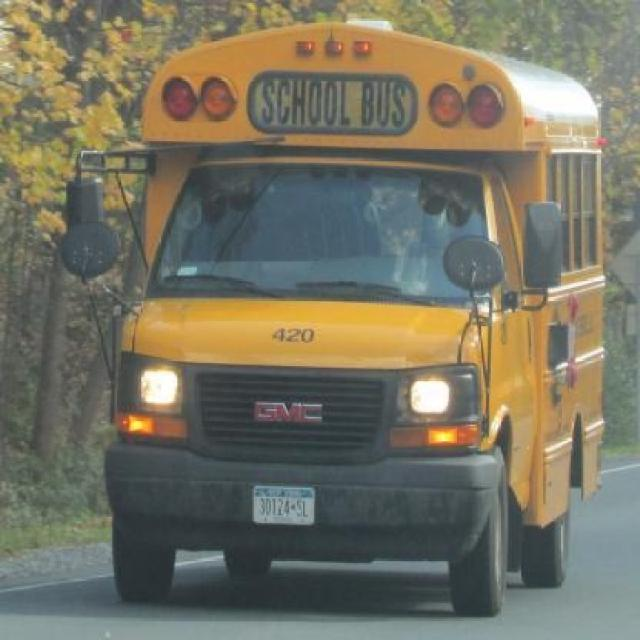Bus: (58, 1, 607, 622)
